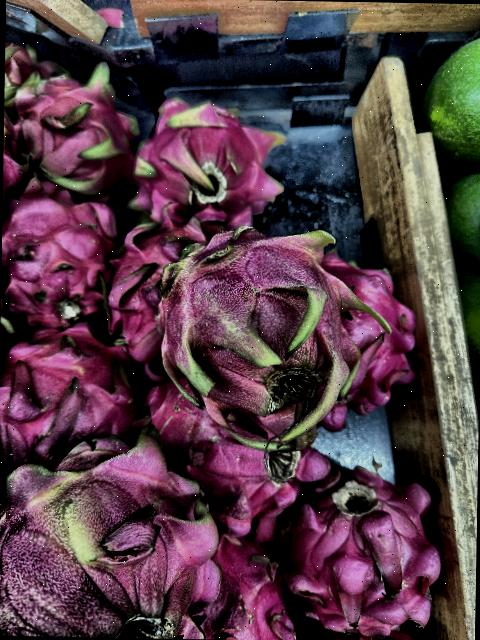buah-naga-belum-matang: (0, 426, 222, 639), (158, 223, 360, 437)
buah-naga-matang: (143, 370, 322, 546), (294, 471, 444, 640), (136, 88, 286, 235), (1, 332, 156, 466), (3, 72, 140, 202), (0, 195, 120, 328), (200, 525, 316, 640), (105, 226, 188, 359)
